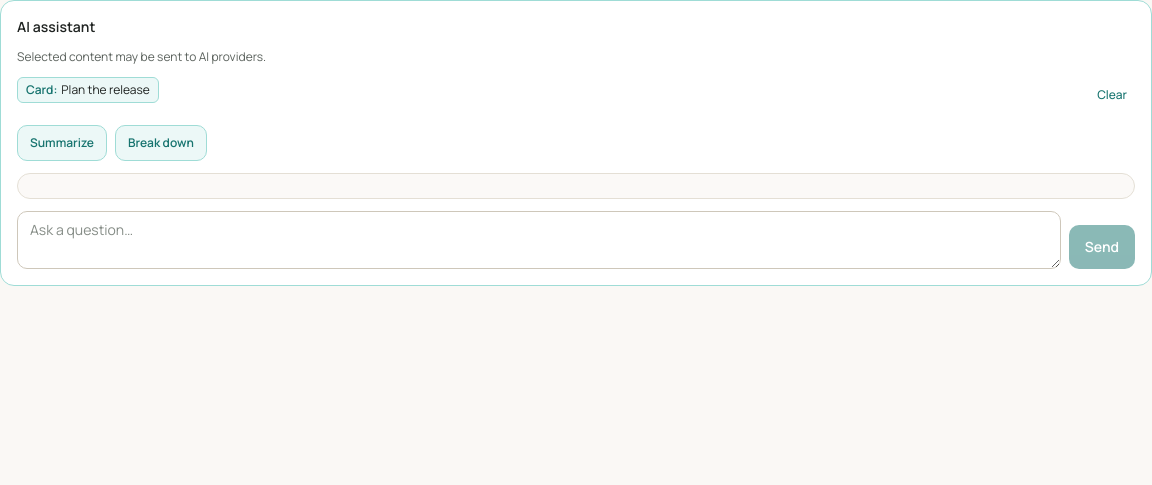
Test case: AiPanel › TC-AI-05: shows the safe AI_UNAVAILABLE response
Type "What is the plan?" into the text box labelled "Ask a question".
click(539, 240); type("What is the plan?")  # box [17,211,1061,269]
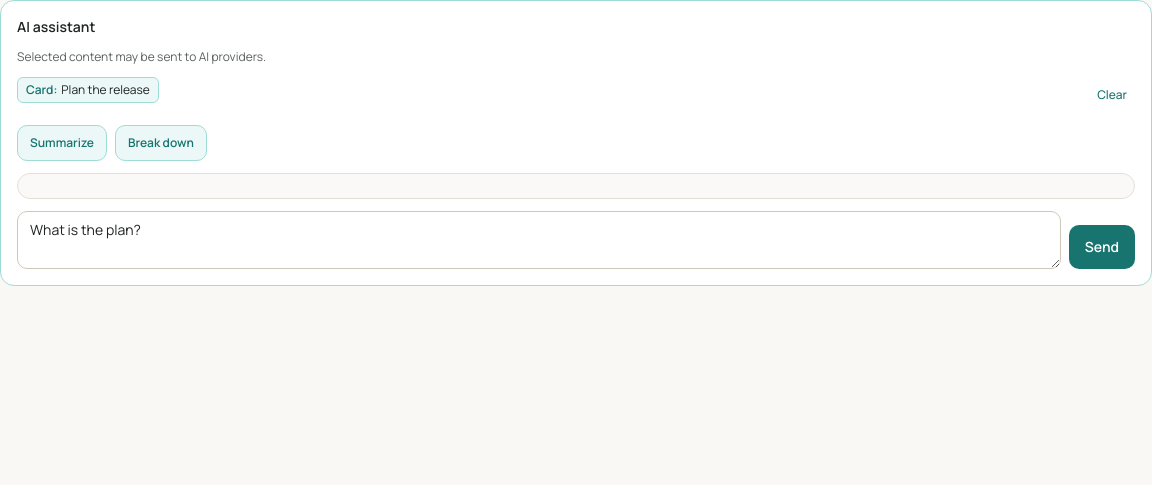
Click the button with aria-label "Ask AI".
click(1102, 247)  # box [1069,225,1135,269]
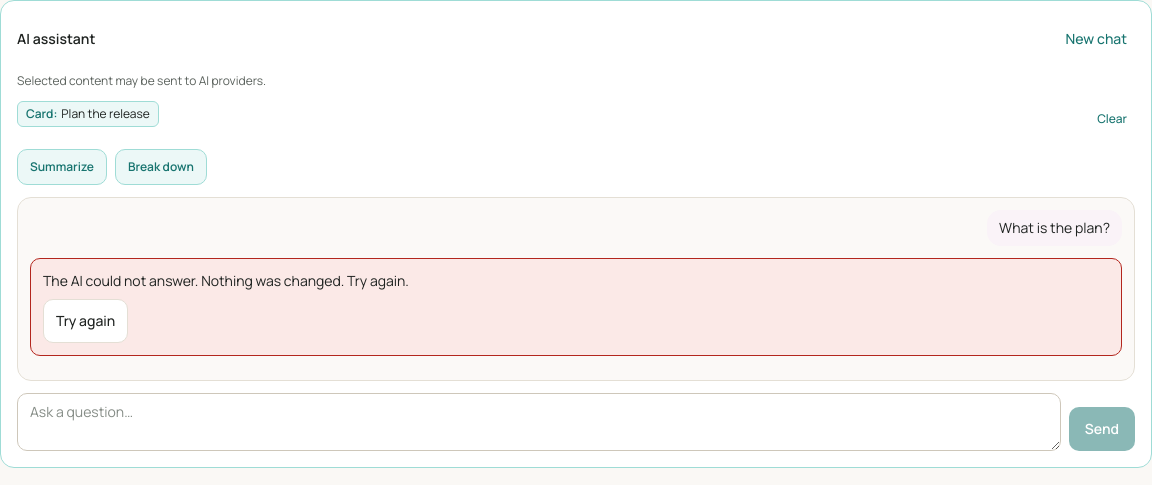
Check: the text "The AI could not answer. Nothing was changed. Try again." is shown, box [43,271,409,290]
